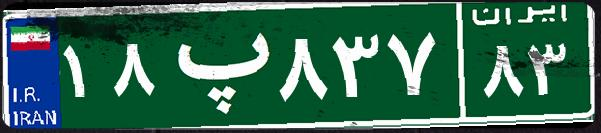1: (57, 26, 110, 107)
3: (330, 28, 385, 110), (525, 38, 570, 115)
7: (385, 28, 445, 110)
8: (273, 28, 330, 110), (475, 38, 525, 113), (110, 28, 158, 105)
پ: (158, 15, 273, 115)
